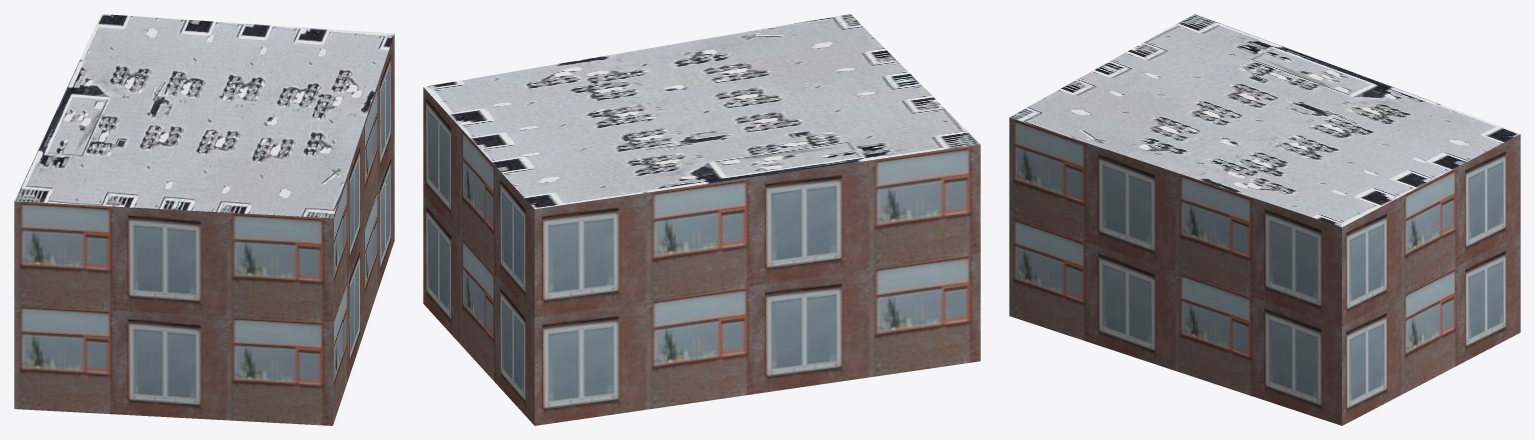
File: ResTex__1295.fbx
3 views of the same model, side by side, from view 1: azimuth 30°, elevation 25°; view 2: azimuth 150°, elevation 25°; view 3: azimuth 270°, elevation 25° (orthographic). The views are drawn at different scales.
Visible parts, largest first — view 1: CityEngineMaterial_19_m, CityEngineMaterial_15_m; view 2: CityEngineMaterial_19_m, CityEngineMaterial_15_m; view 3: CityEngineMaterial_19_m, CityEngineMaterial_15_m.
Part boxes in pixels (x1,y1,x2,y2): CityEngineMaterial_19_m: (14, 34, 394, 425); CityEngineMaterial_15_m: (15, 14, 394, 218); CityEngineMaterial_19_m: (423, 87, 980, 425); CityEngineMaterial_15_m: (423, 14, 980, 208); CityEngineMaterial_19_m: (1009, 117, 1520, 425); CityEngineMaterial_15_m: (1009, 14, 1519, 226).
Bounding box in the file's own units: 13.82 × 6 × 14.
2 materials, 2 textured.
